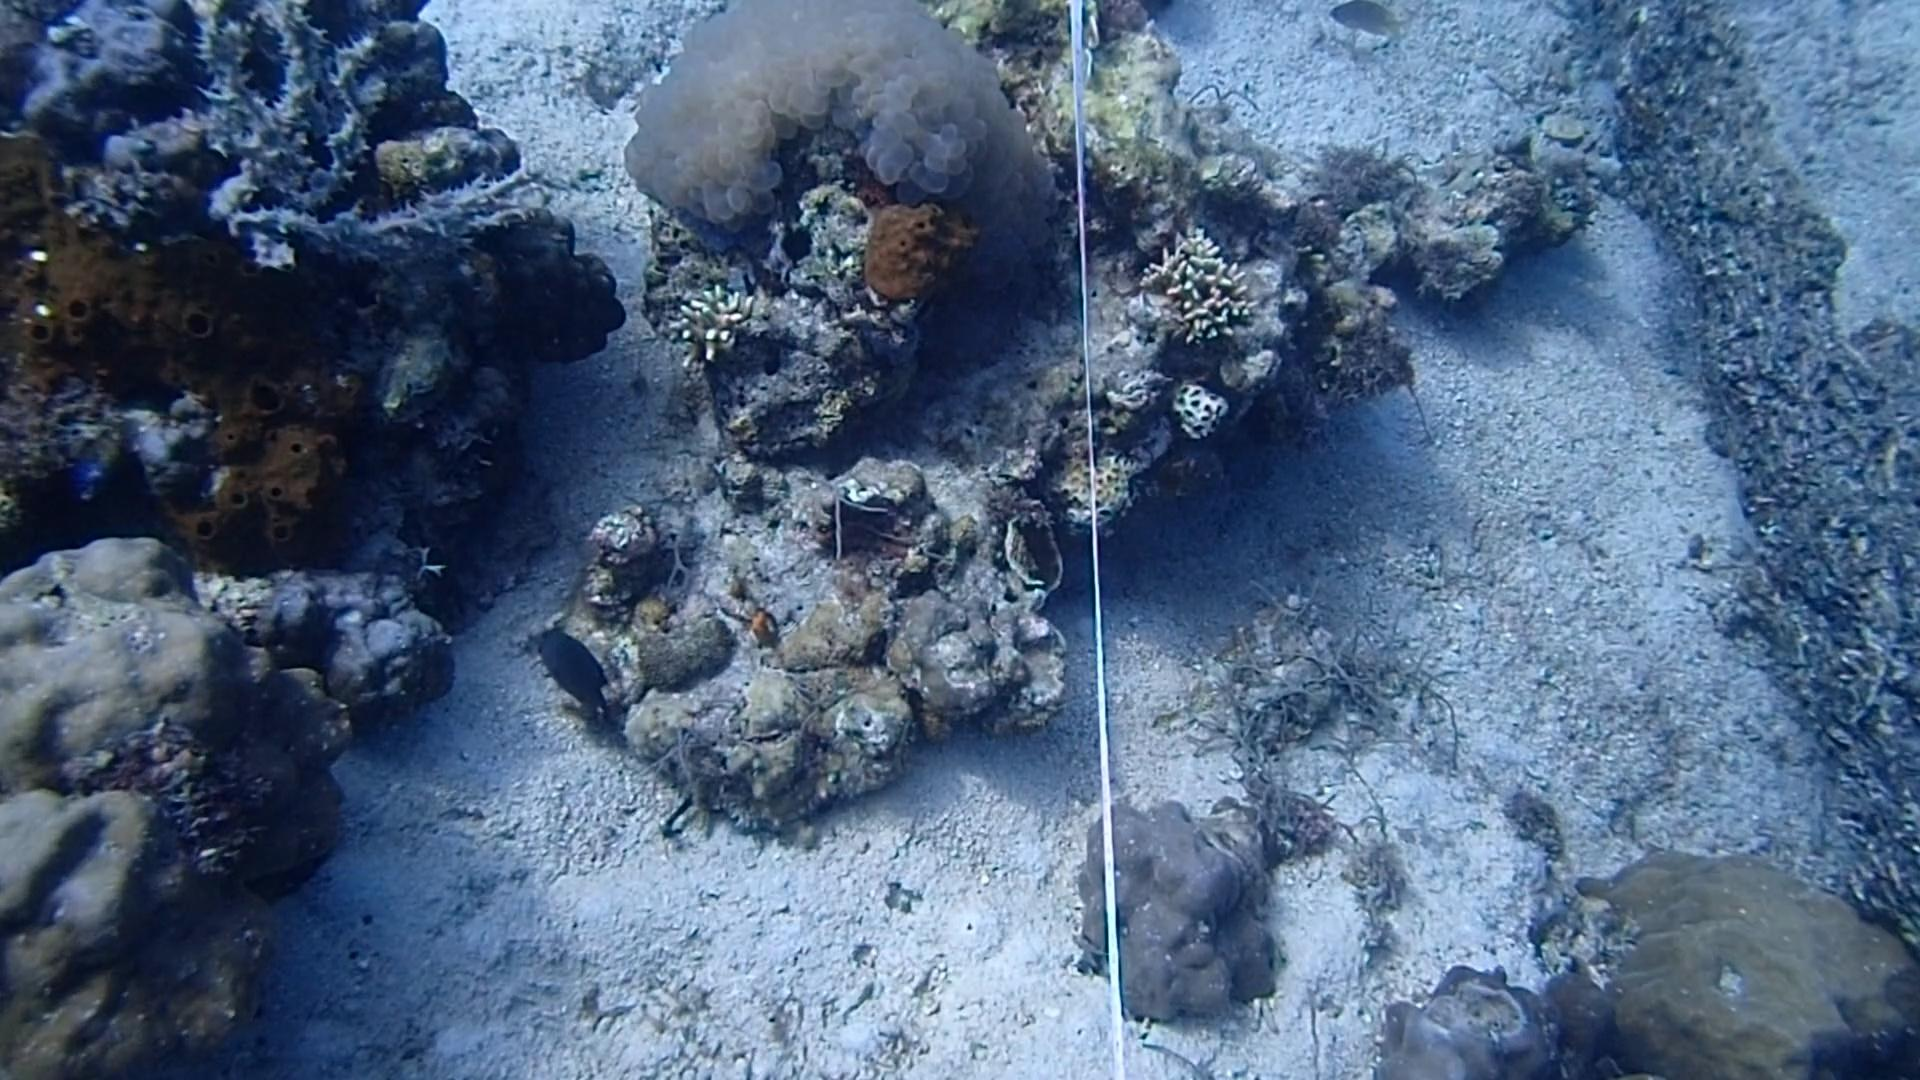Big Dark Blue Fish: (516, 620, 636, 732)
Light Fish: (1321, 0, 1419, 47)
